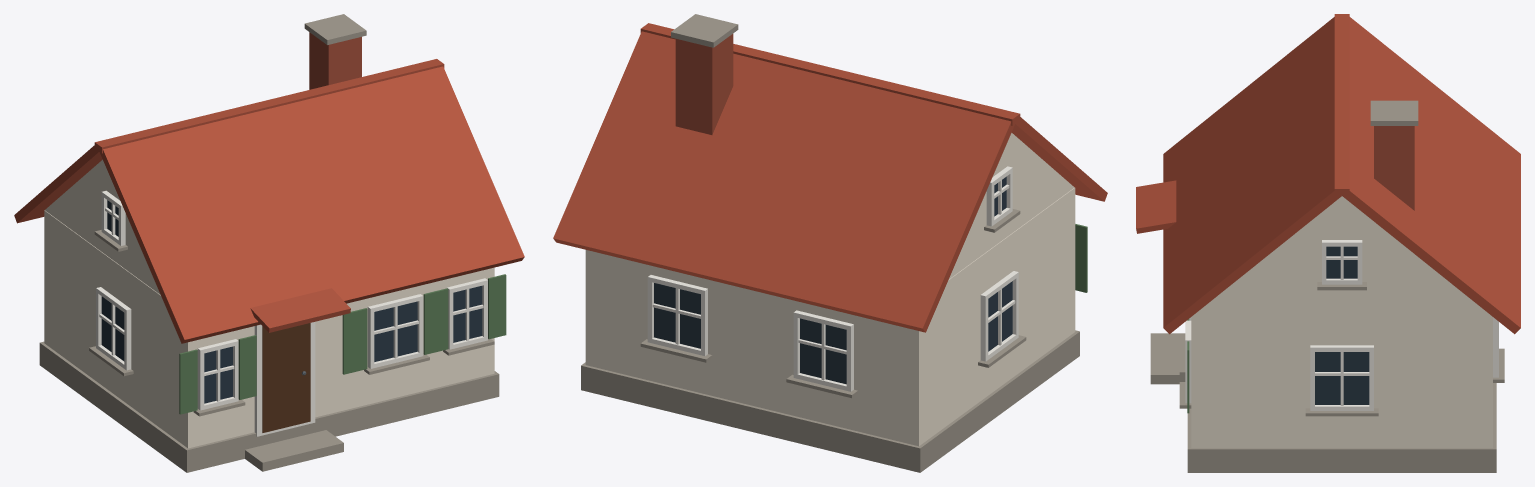
The model's file is house_cottage_01.glb.
3 views of the same model, side by side, from view 1: azimuth 30°, elevation 25°; view 2: azimuth 150°, elevation 25°; view 3: azimuth 270°, elevation 25° (orthographic). The views are drawn at different scales.
Visible parts, largest first — view 1: house_cottage_01_roof_tile, house_cottage_01_plaster, house_cottage_01_stone, house_cottage_01_trim, house_cottage_01_shutter, house_cottage_01_glass, house_cottage_01_wood, house_cottage_01_brick; view 2: house_cottage_01_roof_tile, house_cottage_01_plaster, house_cottage_01_stone, house_cottage_01_trim, house_cottage_01_glass, house_cottage_01_brick, house_cottage_01_shutter; view 3: house_cottage_01_roof_tile, house_cottage_01_plaster, house_cottage_01_stone, house_cottage_01_trim, house_cottage_01_glass, house_cottage_01_brick.
Boxes of the visible parts, x1,y1,x2,y2 form: house_cottage_01_roof_tile: (14,59,524,343); house_cottage_01_plaster: (44,159,494,448); house_cottage_01_stone: (39,14,499,472); house_cottage_01_trim: (96,190,487,436); house_cottage_01_shutter: (179,274,506,414); house_cottage_01_glass: (101,200,482,403); house_cottage_01_wood: (262,323,310,432); house_cottage_01_brick: (309,32,361,89); house_cottage_01_roof_tile: (553,23,1107,332); house_cottage_01_plaster: (585,133,1075,446); house_cottage_01_stone: (581,14,1079,472); house_cottage_01_trim: (647,166,1018,391); house_cottage_01_glass: (654,176,1012,384); house_cottage_01_brick: (675,34,733,134); house_cottage_01_shutter: (1075,224,1087,292); house_cottage_01_roof_tile: (1136,14,1520,334); house_cottage_01_plaster: (1191,196,1492,447); house_cottage_01_stone: (1150,100,1504,472); house_cottage_01_trim: (1185,240,1498,410); house_cottage_01_glass: (1315,246,1369,404); house_cottage_01_brick: (1374,126,1414,210).
Bounding box in the file's own units: 7.14 × 6.25 × 6.63.
